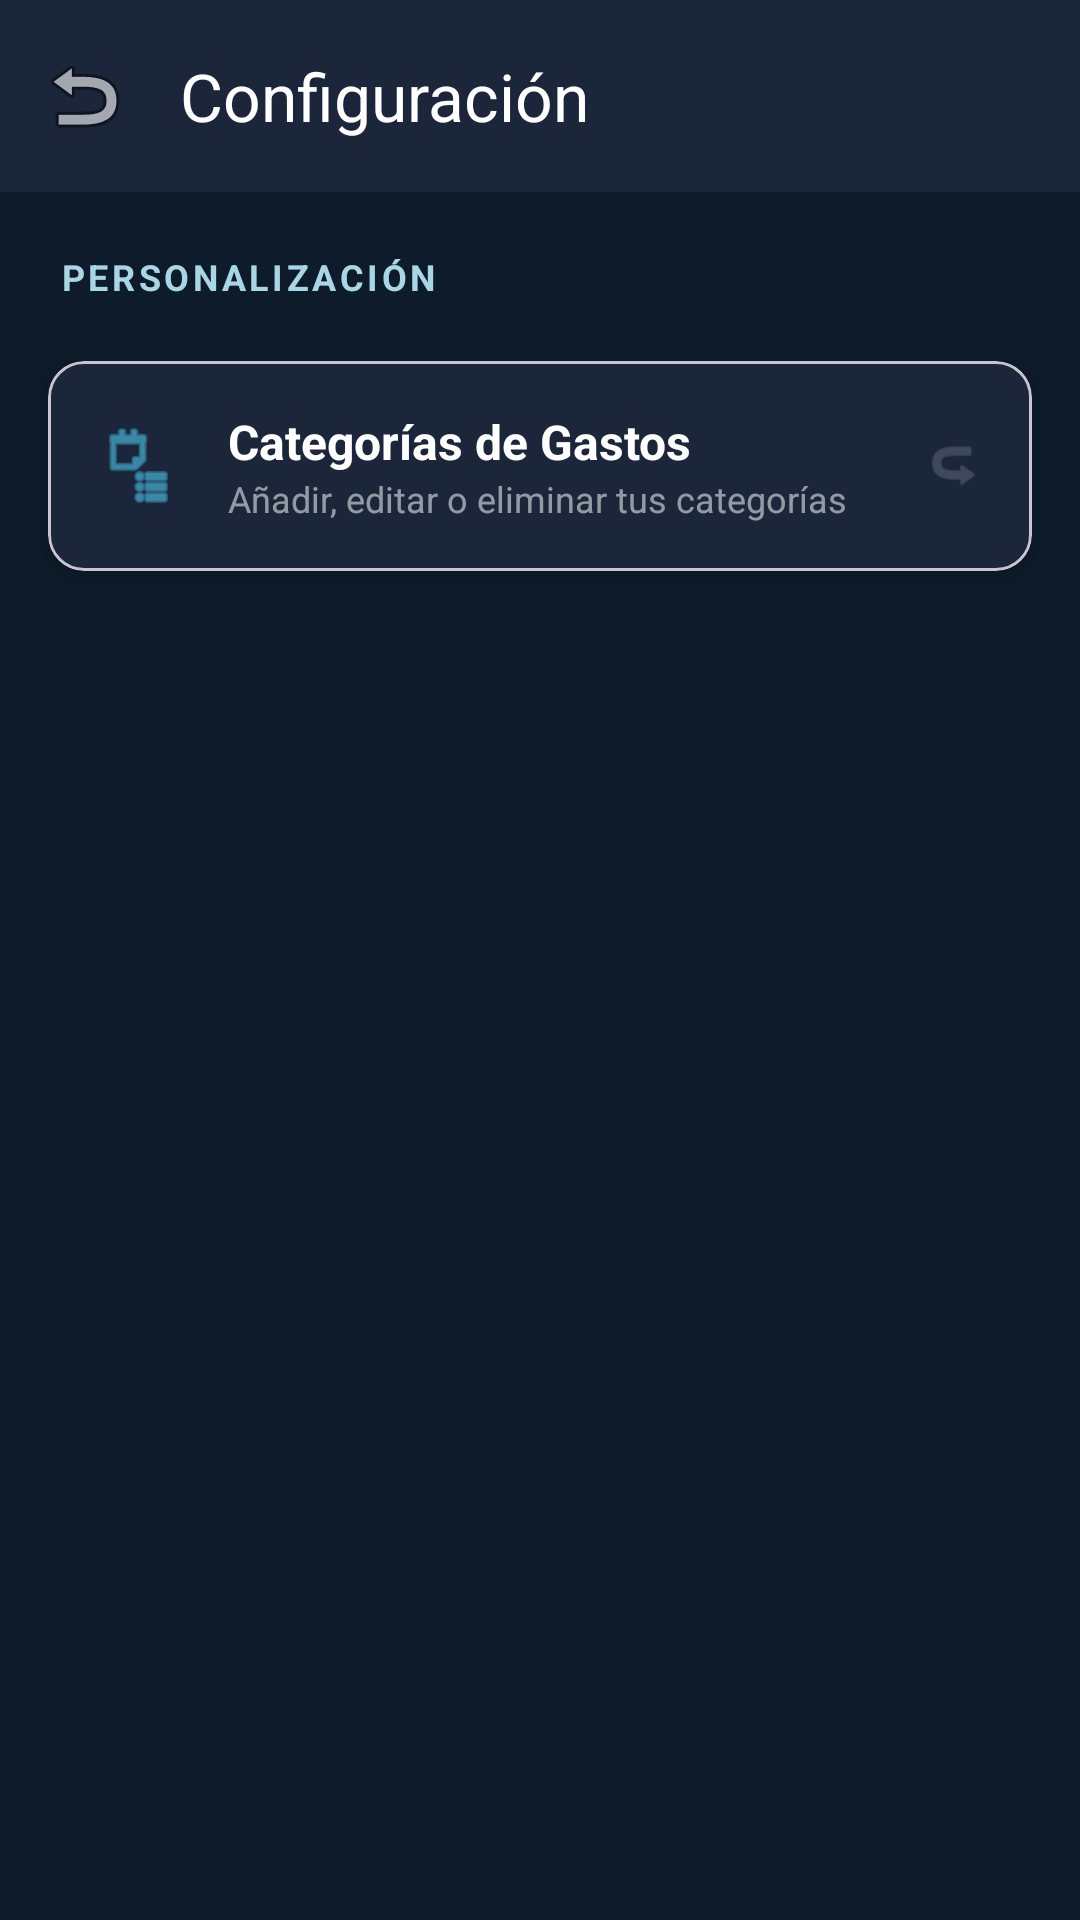

Named icons in this screenshot (1080x1920) and their centers, [x,y]:
agenda: [138,465]
